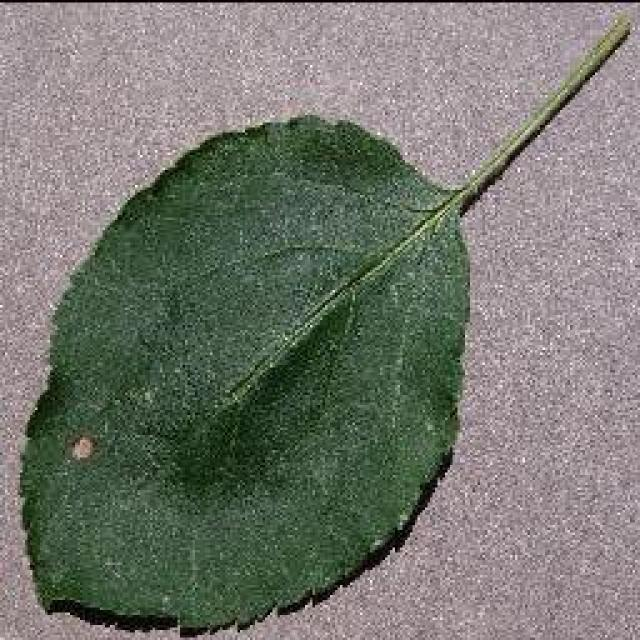apple black rot: (15, 110, 473, 635)
